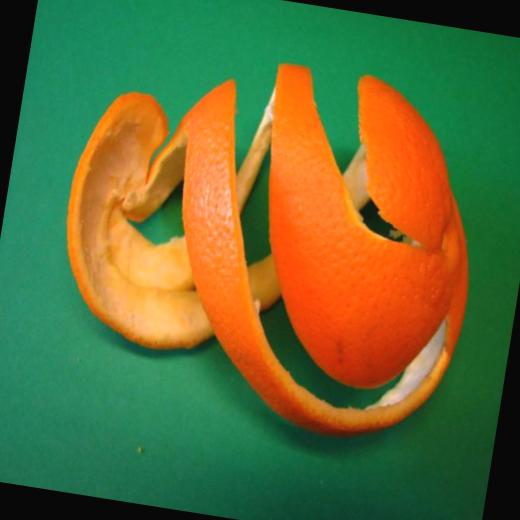Grape: (44, 31, 500, 451)
